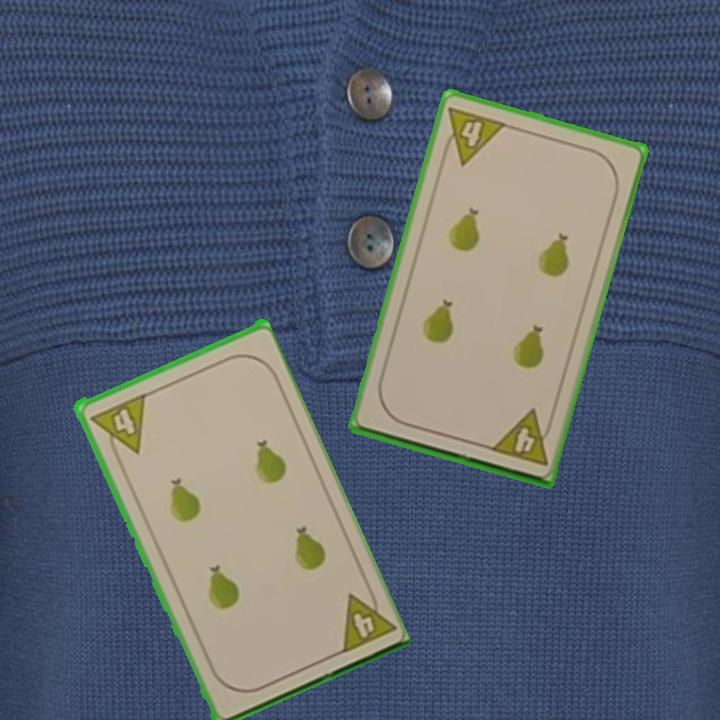4p: (437, 102, 509, 168), (334, 581, 396, 657), (85, 390, 148, 463), (486, 406, 557, 469)
